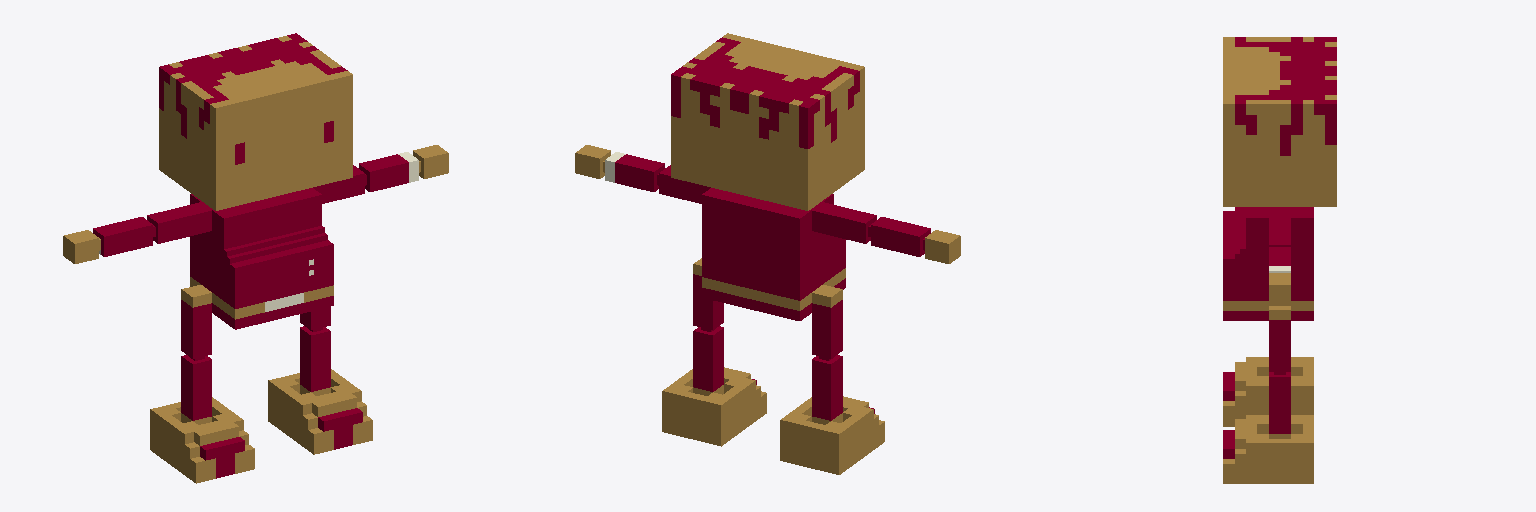
3 views of the same model, side by side, from view 1: azimuth 30°, elevation 25°; view 2: azimuth 150°, elevation 25°; view 3: azimuth 270°, elevation 25° (orthographic).
Parts seen in each view (by area): view 1: object 1; view 2: object 1; view 3: object 1.
Part boxes in pixels (x1,y1,x2,y2): object 1: (63,33,448,483); object 1: (575,33,960,474); object 1: (1223,37,1336,483).
Bounding box in the file's own units: 7.6 × 7.2 × 2.
Materials: 1 (1 with a texture image).